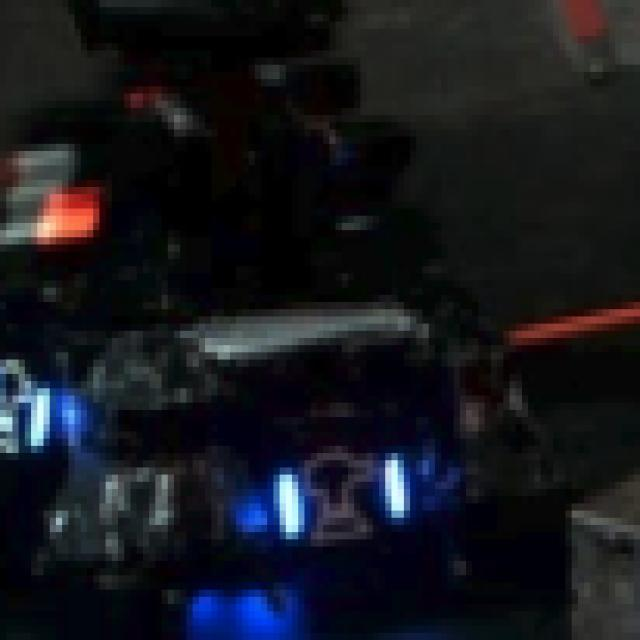Bs: (280, 446, 410, 554)
